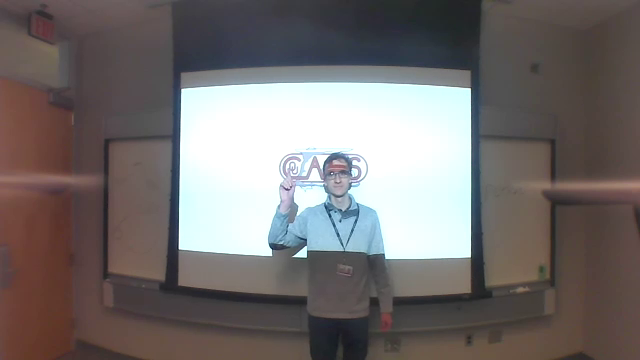up: (277, 166, 296, 194)
